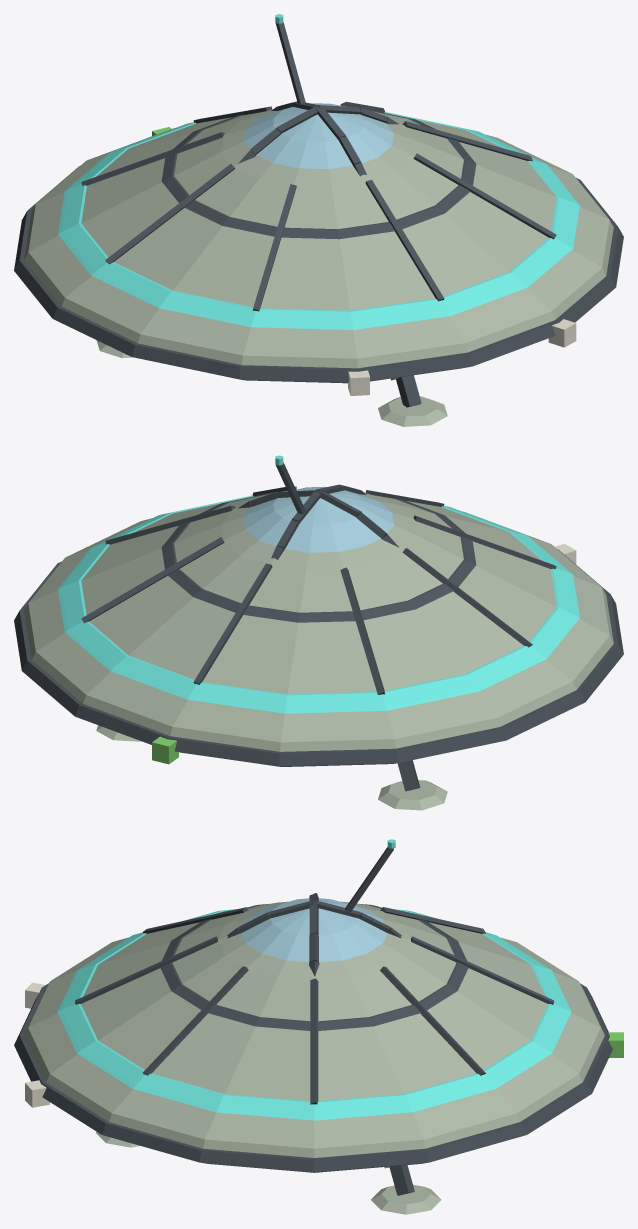
The model's file is SH_Scout_01.glb.
3 views of the same model, one above another, from view 1: azimuth 30°, elevation 25°; view 2: azimuth 150°, elevation 25°; view 3: azimuth 270°, elevation 25° (orthographic). The views are drawn at different scales.
Visible parts, largest first — view 1: SH_Scout_01; view 2: SH_Scout_01; view 3: SH_Scout_01.
Boxes of the visible parts, x1,y1,x2,y2 form: SH_Scout_01: (14, 14, 623, 426); SH_Scout_01: (14, 455, 623, 810); SH_Scout_01: (14, 839, 623, 1214).
Bounding box in the file's own units: 9.34 × 5 × 9.48.
1 material, 1 textured.
